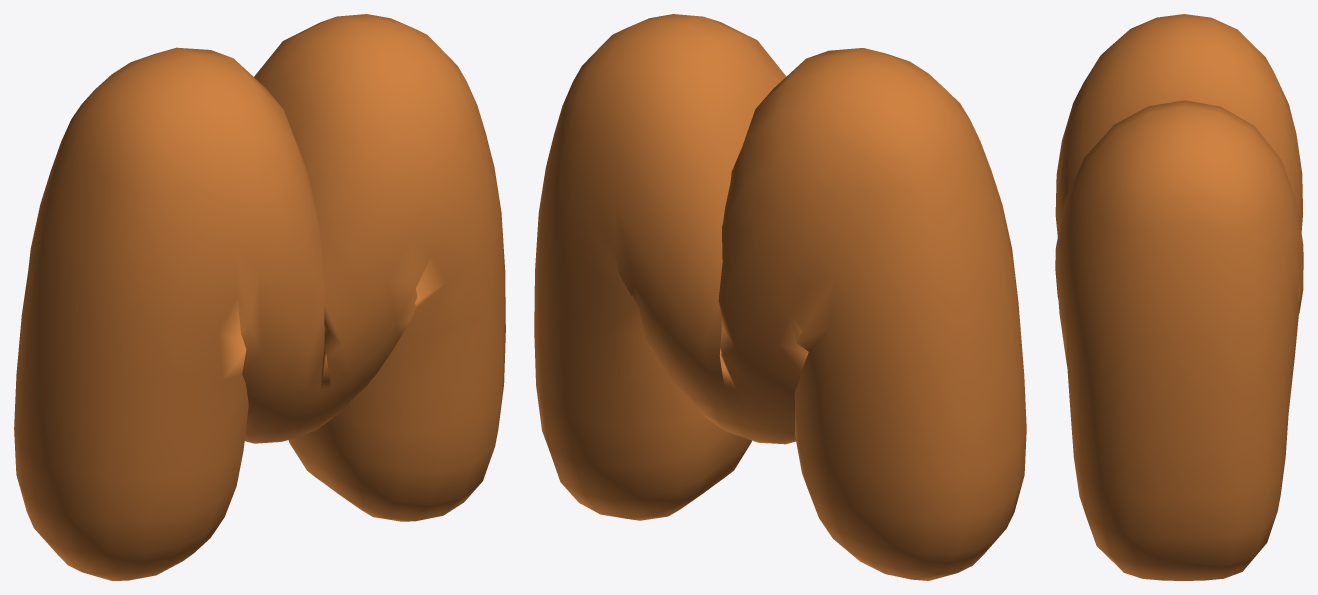
3 renders of one model, left to right at view 1: azimuth 30°, elevation 25°; view 2: azimuth 150°, elevation 25°; view 3: azimuth 270°, elevation 25°, orthographic. The views are drawn at different scales.
Parts seen in each view (by area): view 1: M_12; view 2: M_12; view 3: M_12.
Boxes of the visible parts, x1,y1,x2,y2 form: M_12: (14, 14, 505, 580); M_12: (534, 14, 1026, 580); M_12: (1055, 14, 1303, 580).
Size of the model in its own units: 93.49 by 98.46 by 48.81.
